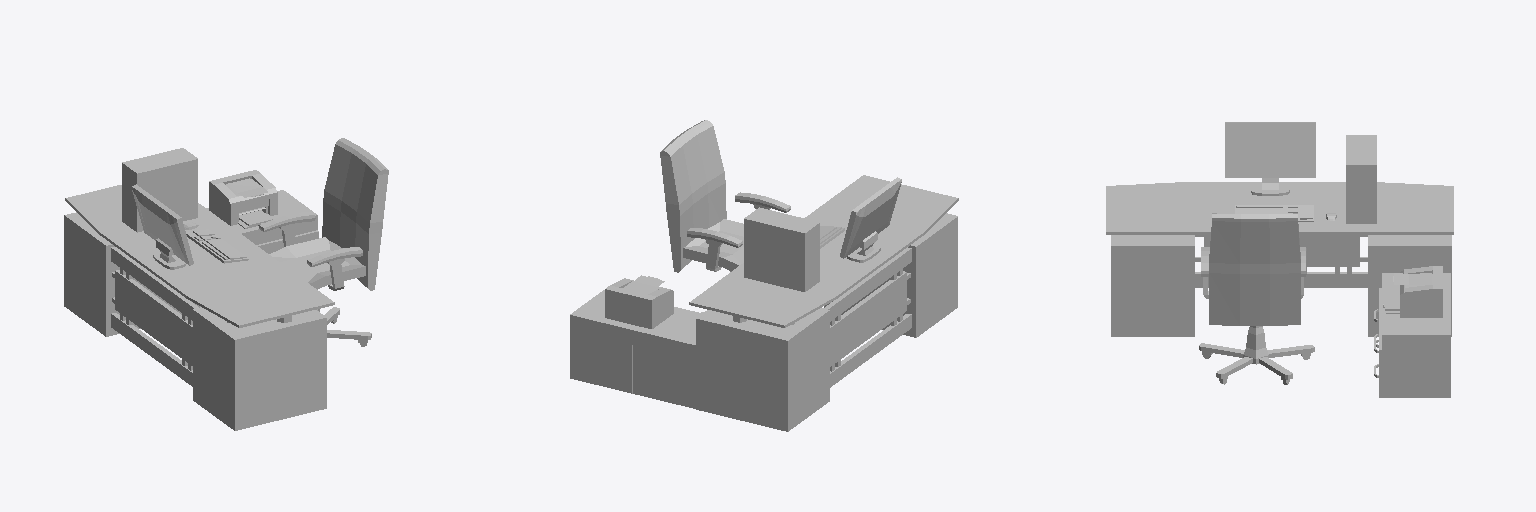
File: ComputerDesk.obj
3 views of the same model, side by side, from view 1: azimuth 30°, elevation 25°; view 2: azimuth 150°, elevation 25°; view 3: azimuth 270°, elevation 25° (orthographic).
Visible parts, largest first — view 1: MaterialFBXASC032FBXASC0353, MaterialFBXASC032FBXASC0353.017, MaterialFBXASC032FBXASC03538.003, MaterialFBXASC032FBXASC0353.028, MaterialFBXASC032FBXASC0354_ncl1_1.002, MaterialFBXASC032FBXASC0353.002, MaterialFBXASC032FBXASC0352, MaterialFBXASC032FBXASC0354, MaterialFBXASC032FBXASC03538, MaterialFBXASC032FBXASC0353.023, MaterialFBXASC032FBXASC0353.003, MaterialFBXASC032FBXASC0353.001 (+4 smaller); view 2: MaterialFBXASC032FBXASC0353.028, MaterialFBXASC032FBXASC0353.017, MaterialFBXASC032FBXASC0353.023, MaterialFBXASC032FBXASC03538.003, MaterialFBXASC032FBXASC0354_ncl1_1.002, MaterialFBXASC032FBXASC0353, MaterialFBXASC032FBXASC0353.002, MaterialFBXASC032FBXASC0352, MaterialFBXASC032FBXASC0354, MaterialFBXASC032FBXASC0353.003, MaterialFBXASC032FBXASC03538, MaterialFBXASC032FBXASC0353.001 (+2 smaller); view 3: MaterialFBXASC032FBXASC0353.017, MaterialFBXASC032FBXASC03538.003, MaterialFBXASC032FBXASC0353, MaterialFBXASC032FBXASC0353.023, MaterialFBXASC032FBXASC0354, MaterialFBXASC032FBXASC0353.028, MaterialFBXASC032FBXASC0354_ncl1_1.002, MaterialFBXASC032FBXASC0352, MaterialFBXASC032FBXASC03538.004, MaterialFBXASC032FBXASC0353.002, MaterialFBXASC032FBXASC0353.001, MaterialFBXASC032FBXASC0354_ncl1_1.001.
Boxes of the visible parts, x1,y1,x2,y2 form: MaterialFBXASC032FBXASC0353: [193, 307, 326, 430]; MaterialFBXASC032FBXASC0353.017: [65, 185, 334, 327]; MaterialFBXASC032FBXASC03538.003: [322, 138, 388, 290]; MaterialFBXASC032FBXASC0353.028: [64, 212, 198, 336]; MaterialFBXASC032FBXASC0354_ncl1_1.002: [122, 148, 197, 232]; MaterialFBXASC032FBXASC0353.002: [115, 270, 192, 365]; MaterialFBXASC032FBXASC0352: [209, 170, 277, 228]; MaterialFBXASC032FBXASC0354: [132, 184, 193, 269]; MaterialFBXASC032FBXASC03538: [269, 237, 365, 289]; MaterialFBXASC032FBXASC0353.023: [199, 190, 318, 307]; MaterialFBXASC032FBXASC0353.003: [111, 247, 198, 320]; MaterialFBXASC032FBXASC0353.001: [111, 313, 192, 386]; MaterialFBXASC032FBXASC0353.028: [696, 308, 829, 431]; MaterialFBXASC032FBXASC0353.017: [689, 175, 958, 327]; MaterialFBXASC032FBXASC0353.023: [570, 290, 702, 408]; MaterialFBXASC032FBXASC03538.003: [660, 120, 726, 272]; MaterialFBXASC032FBXASC0354_ncl1_1.002: [744, 207, 819, 291]; MaterialFBXASC032FBXASC0353: [824, 213, 957, 337]; MaterialFBXASC032FBXASC0353.002: [830, 271, 906, 366]; MaterialFBXASC032FBXASC0352: [605, 275, 673, 328]; MaterialFBXASC032FBXASC0354: [840, 177, 901, 262]; MaterialFBXASC032FBXASC0353.003: [823, 247, 911, 321]; MaterialFBXASC032FBXASC03538: [683, 219, 743, 270]; MaterialFBXASC032FBXASC0353.001: [830, 314, 911, 387]; MaterialFBXASC032FBXASC0353.017: [1106, 182, 1453, 234]; MaterialFBXASC032FBXASC03538.003: [1209, 213, 1300, 325]; MaterialFBXASC032FBXASC0353: [1111, 235, 1194, 336]; MaterialFBXASC032FBXASC0353.023: [1379, 273, 1450, 397]; MaterialFBXASC032FBXASC0354: [1225, 122, 1315, 195]; MaterialFBXASC032FBXASC0353.028: [1368, 235, 1451, 336]; MaterialFBXASC032FBXASC0354_ncl1_1.002: [1346, 135, 1376, 223]; MaterialFBXASC032FBXASC0352: [1383, 266, 1442, 317]; MaterialFBXASC032FBXASC03538.004: [1199, 326, 1314, 384]; MaterialFBXASC032FBXASC0353.002: [1204, 235, 1359, 266]; MaterialFBXASC032FBXASC0353.001: [1195, 272, 1367, 287]; MaterialFBXASC032FBXASC0354_ncl1_1.001: [1235, 205, 1313, 221].
Size of the model in its own units: 138 by 105 by 185.